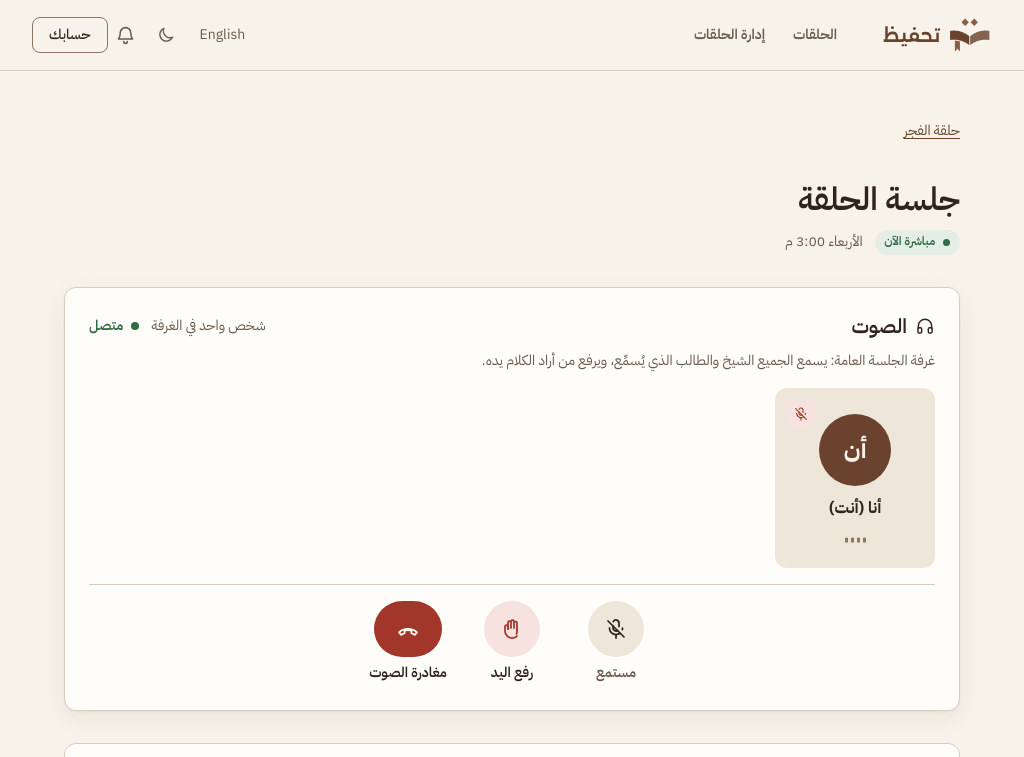
session audio › joins as a listener and raises a hand
Expected: the text "متصل" is shown, [89,314,139,338]
Expected: the button "مستمع" is disabled, [572,602,660,686]
Click the button "رفع اليد": click(512, 644) [468,602,556,686]
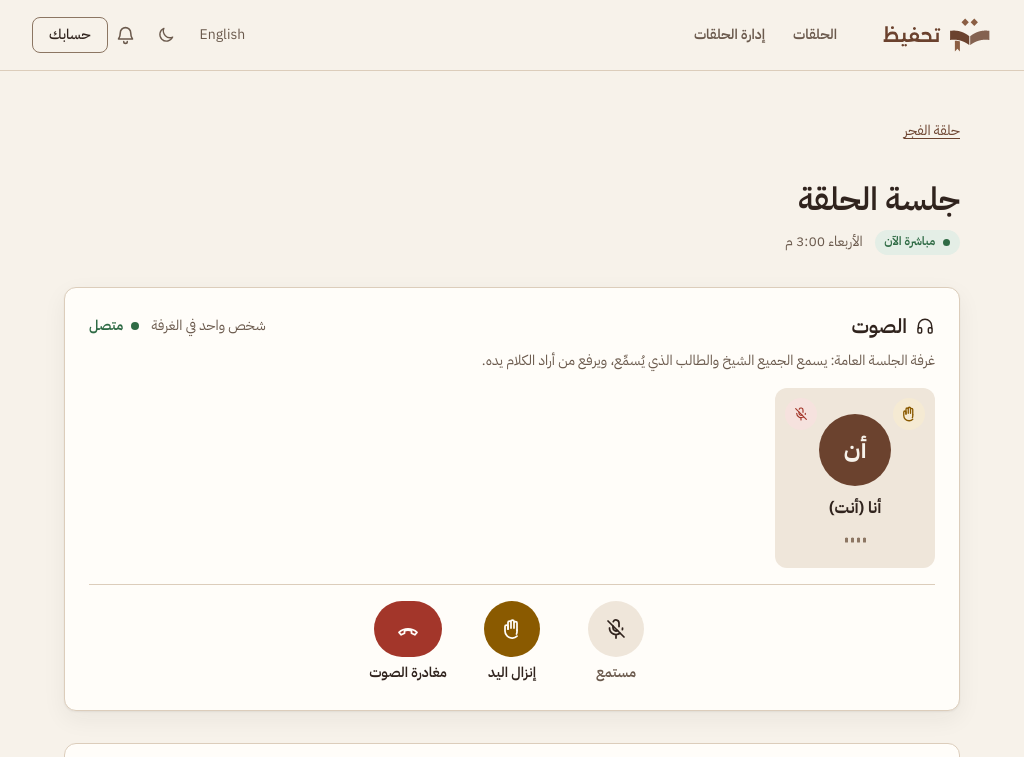
Expected: the button "إنزال اليد" is shown, [468,602,556,686]
Click the button "مغادرة الصوت": click(408, 644) [364,602,452,686]
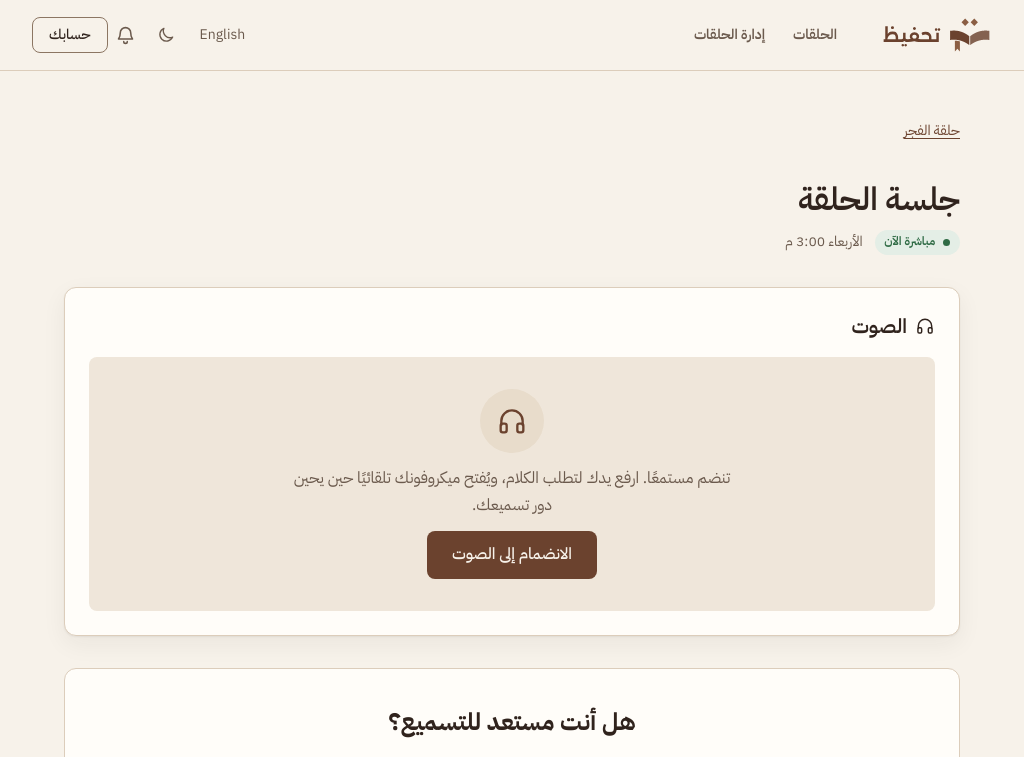
Expected: the button "الانضمام إلى الصوت" is shown, [427,531,597,579]
